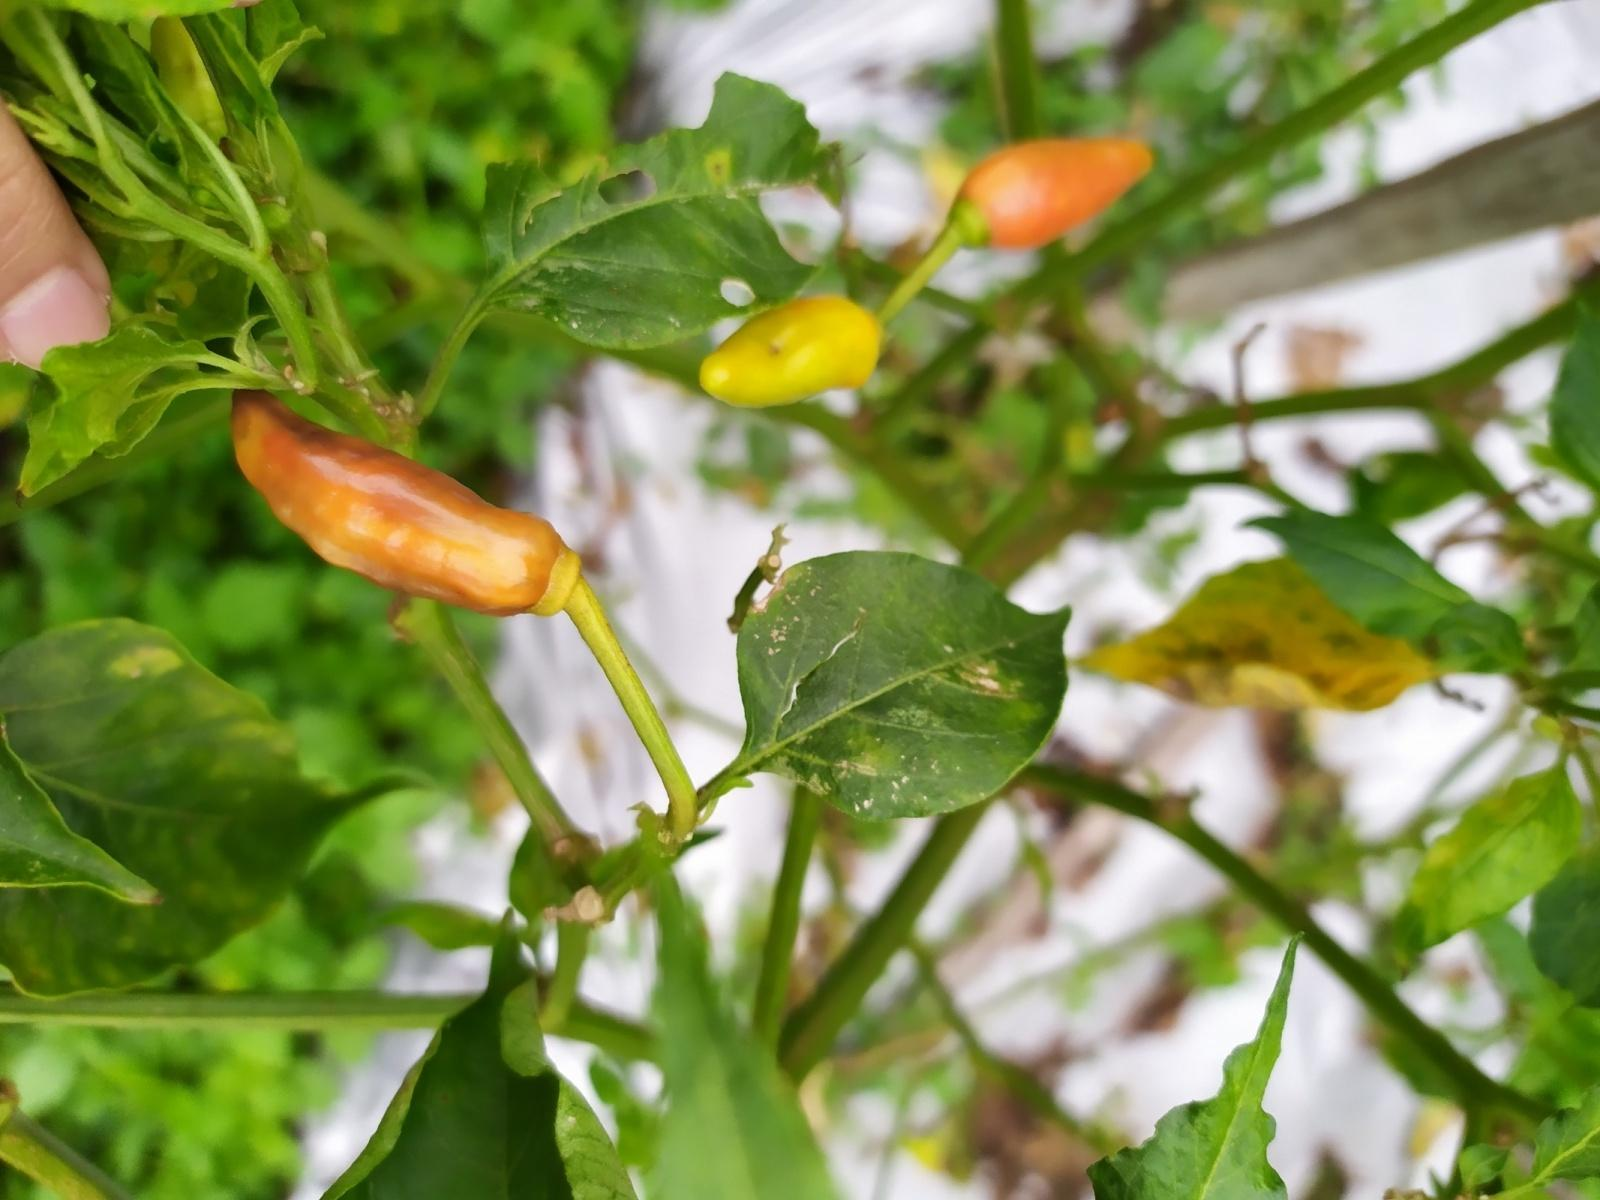cabai_normal: (951, 136, 1155, 245), (699, 293, 883, 409)
lalat_buah: (229, 385, 566, 618)
